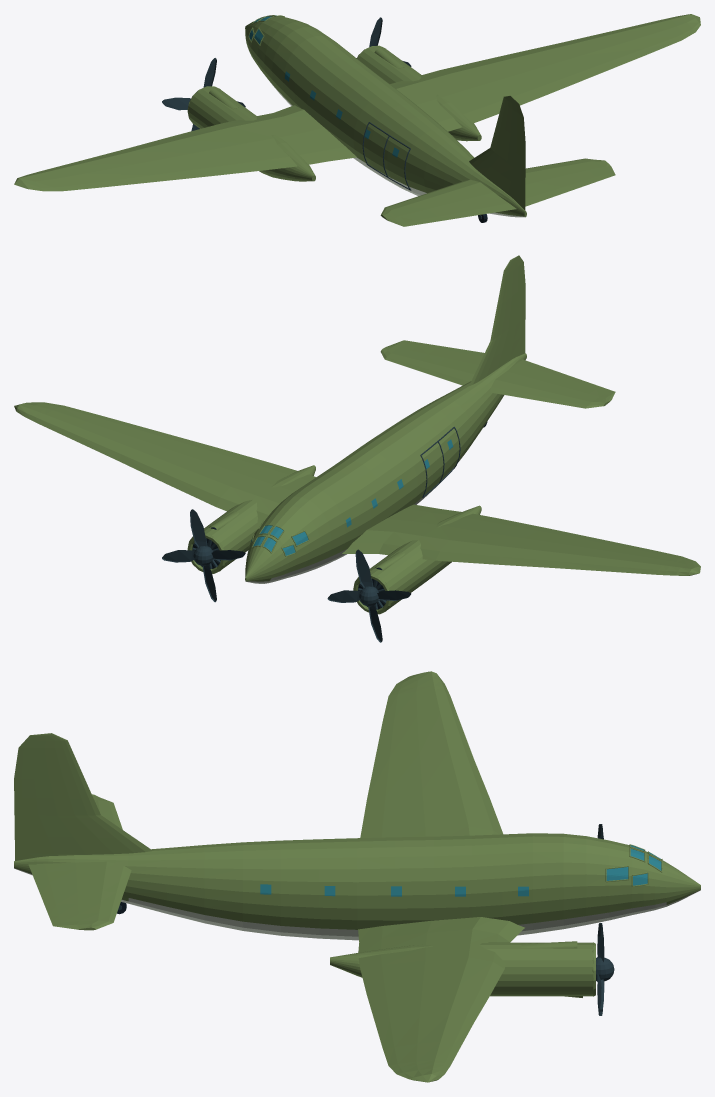
File: archive-c46a.glb
3 views of the same model, one above another, from view 1: azimuth 30°, elevation 25°; view 2: azimuth 150°, elevation 25°; view 3: azimuth 270°, elevation 25° (orthographic). The views are drawn at different scales.
Parts seen in each view (by area): view 1: archive-c46a-fuselage.002-geometry, archive-c46a-transport_main_wing.003-geometry, archive-c46a-transport_main_wing.006-geometry, archive-c46a-transport_tailplane.001-geometry, archive-c46a-transport_fin.001-geometry, archive-c46a-radial_engine_0.002-geometry, archive-c46a-transport_tailplane.004-geometry, archive-c46a-radial_engine_1.002-geometry, archive-c46a-transport_propeller_0.002-geometry, archive-c46a-transport_glazing.002-geometry, archive-c46a-military_cargo_door.001-geometry; view 2: archive-c46a-fuselage.002-geometry, archive-c46a-transport_main_wing.003-geometry, archive-c46a-transport_main_wing.006-geometry, archive-c46a-transport_tailplane.001-geometry, archive-c46a-transport_fin.001-geometry, archive-c46a-radial_engine_0.002-geometry, archive-c46a-transport_tailplane.004-geometry, archive-c46a-radial_engine_1.002-geometry, archive-c46a-transport_propeller_0.002-geometry, archive-c46a-transport_propeller_1.002-geometry, archive-c46a-transport_glazing.002-geometry; view 3: archive-c46a-fuselage.002-geometry, archive-c46a-transport_main_wing.006-geometry, archive-c46a-transport_main_wing.003-geometry, archive-c46a-transport_fin.001-geometry, archive-c46a-radial_engine_1.002-geometry, archive-c46a-transport_tailplane.004-geometry, archive-c46a-transport_glazing.002-geometry, archive-c46a-transport_propeller_1.002-geometry.
Part boxes in pixels (x1,y1,x2,y2): archive-c46a-fuselage.002-geometry: (245,16,526,217); archive-c46a-transport_main_wing.003-geometry: (14,105,356,191); archive-c46a-transport_main_wing.006-geometry: (390,14,700,131); archive-c46a-transport_tailplane.001-geometry: (380,179,516,226); archive-c46a-transport_fin.001-geometry: (469,96,525,210); archive-c46a-radial_engine_0.002-geometry: (187,86,315,181); archive-c46a-transport_tailplane.004-geometry: (525,158,615,206); archive-c46a-radial_engine_1.002-geometry: (356,45,481,141); archive-c46a-transport_propeller_0.002-geometry: (162,58,245,131); archive-c46a-transport_glazing.002-geometry: (248,15,399,157); archive-c46a-military_cargo_door.001-geometry: (362,122,411,190); archive-c46a-fuselage.002-geometry: (245,353,526,583); archive-c46a-transport_main_wing.003-geometry: (342,504,700,575); archive-c46a-transport_main_wing.006-geometry: (14,402,315,524); archive-c46a-transport_tailplane.001-geometry: (490,359,615,408); archive-c46a-transport_fin.001-geometry: (469,255,525,385); archive-c46a-radial_engine_0.002-geometry: (353,505,481,614); archive-c46a-transport_tailplane.004-geometry: (380,340,484,385); archive-c46a-radial_engine_1.002-geometry: (187,465,315,573); archive-c46a-transport_propeller_0.002-geometry: (327,549,411,642); archive-c46a-transport_propeller_1.002-geometry: (162,509,245,602); archive-c46a-transport_glazing.002-geometry: (248,439,453,556); archive-c46a-fuselage.002-geometry: (14,833,700,940); archive-c46a-transport_main_wing.006-geometry: (358,917,524,1082); archive-c46a-transport_main_wing.003-geometry: (360,671,502,837); archive-c46a-transport_fin.001-geometry: (14,733,152,860); archive-c46a-radial_engine_1.002-geometry: (330,941,595,997); archive-c46a-transport_tailplane.004-geometry: (28,861,131,930); archive-c46a-transport_glazing.002-geometry: (260,844,662,896); archive-c46a-transport_propeller_1.002-geometry: (596,923,614,1015).
Bounding box in the file's own units: 8.49 × 2.31 × 6.
